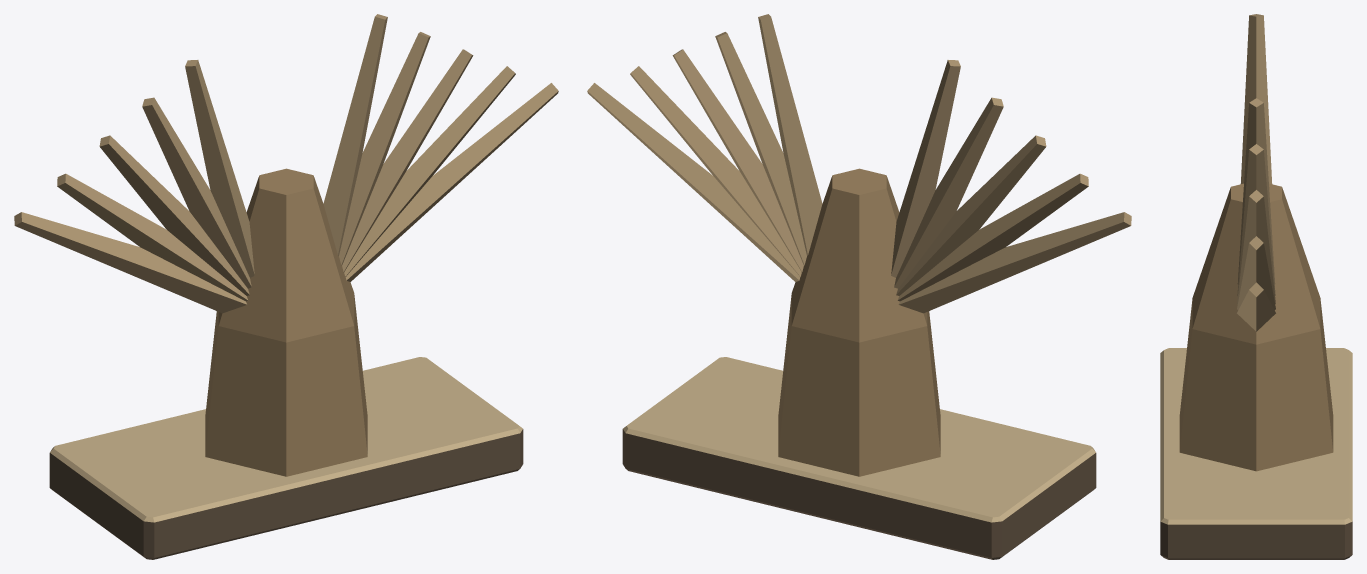
Rendered from wing-statue.glb.
3 renders of one model, left to right at view 1: azimuth 30°, elevation 25°; view 2: azimuth 150°, elevation 25°; view 3: azimuth 270°, elevation 25°, orthographic. The views are drawn at different scales.
Parts seen in each view (by area): view 1: wing-statue__body; view 2: wing-statue__body; view 3: wing-statue__body.
Part boxes in pixels (<box>): wing-statue__body: <box>14,14,558,559</box>; wing-statue__body: <box>587,14,1131,559</box>; wing-statue__body: <box>1160,14,1352,559</box>.
Size of the model in its own units: 2 by 1.56 by 0.65.
